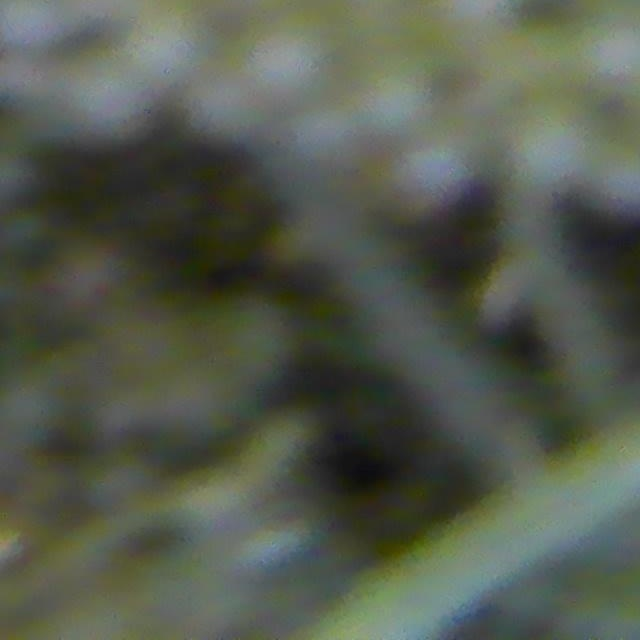SeaGrape: (228, 16, 331, 111), (500, 91, 596, 192), (368, 130, 473, 218), (343, 50, 431, 149), (570, 4, 640, 103), (586, 135, 640, 221)
